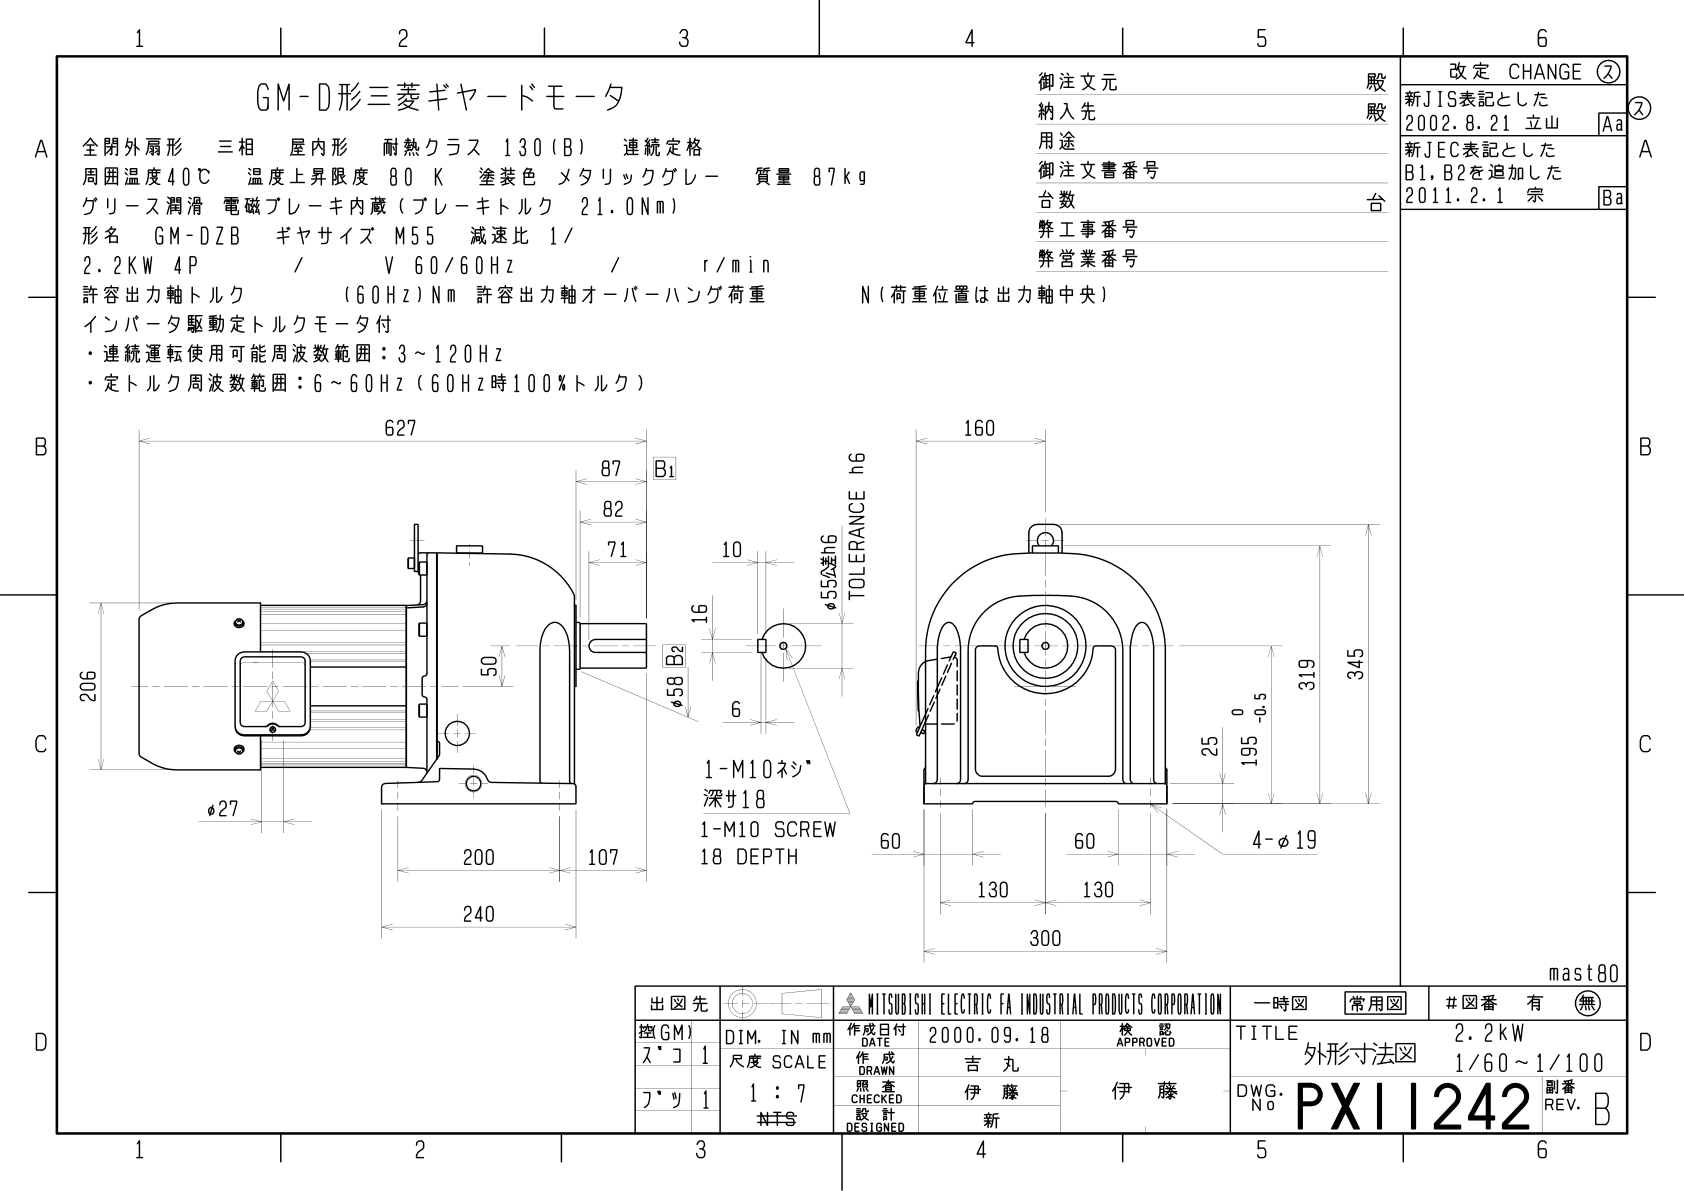GM_D_インバータ屋内_三相_脚: (71, 400, 1386, 965)
